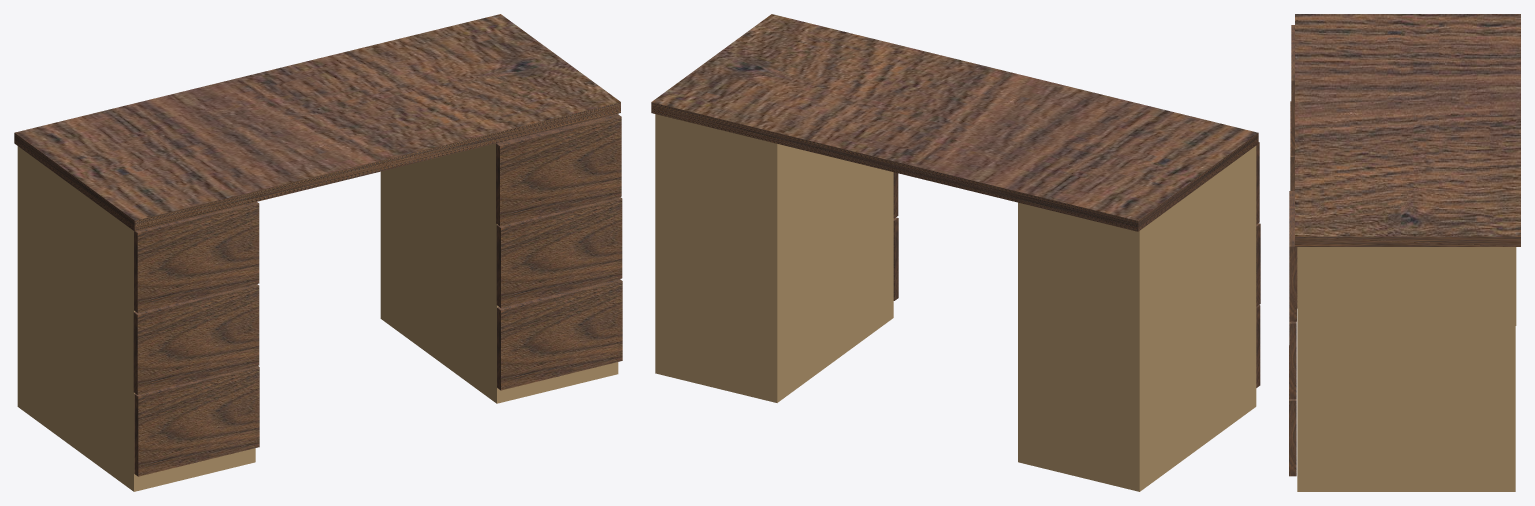
The model's file is bureau.glb.
3 views of the same model, side by side, from view 1: azimuth 30°, elevation 25°; view 2: azimuth 150°, elevation 25°; view 3: azimuth 270°, elevation 25° (orthographic). The views are drawn at different scales.
Parts seen in each view (by area): view 1: plateau, caisson_gauche, caisson_droit, tiroir_droit_H, tiroir_gauche_M, tiroir_droit_M, tiroir_droit_B, tiroir_gauche_H, tiroir_gauche_B; view 2: plateau, caisson_gauche, caisson_droit; view 3: caisson_droit, plateau, tiroir_droit_H, tiroir_droit_B, tiroir_droit_M, tiroir_gauche_H, tiroir_gauche_M.
Part boxes in pixels (x1,y1,x2,y2): plateau: (14,14,620,231); caisson_gauche: (17,146,255,491); caisson_droit: (380,143,618,403); tiroir_droit_H: (496,114,621,226); tiroir_gauche_M: (133,284,259,394); tiroir_droit_M: (496,197,622,307); tiroir_droit_B: (497,279,622,390); tiroir_gauche_H: (134,202,259,312); tiroir_gauche_B: (134,366,259,476); plateau: (651,14,1258,231); caisson_gauche: (1018,146,1256,491); caisson_droit: (655,114,893,402); caisson_droit: (1297,247,1515,491); plateau: (1295,14,1520,246); tiroir_droit_H: (1289,191,1296,321); tiroir_droit_B: (1289,345,1296,476); tiroir_droit_M: (1289,321,1296,398); tiroir_gauche_H: (1291,25,1294,155); tiroir_gauche_M: (1290,101,1294,190).
Size of the model in its own units: 2.8 by 1.5 by 1.23.
Materials: 4 (3 with a texture image).
